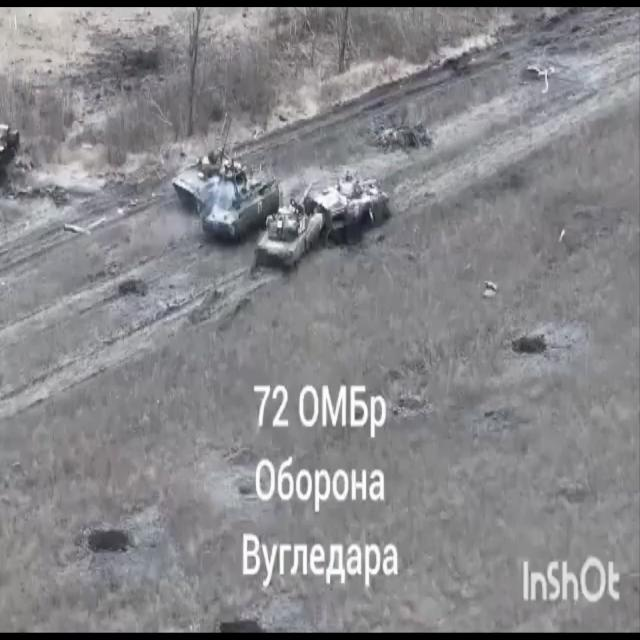apc: (201, 172, 277, 246), (313, 178, 389, 240)
tank: (255, 205, 325, 270), (171, 150, 246, 206)
